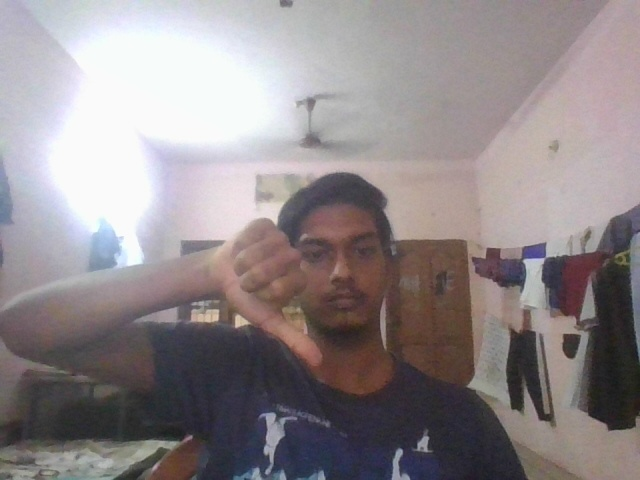thumbsdown: (211, 214, 329, 377)
